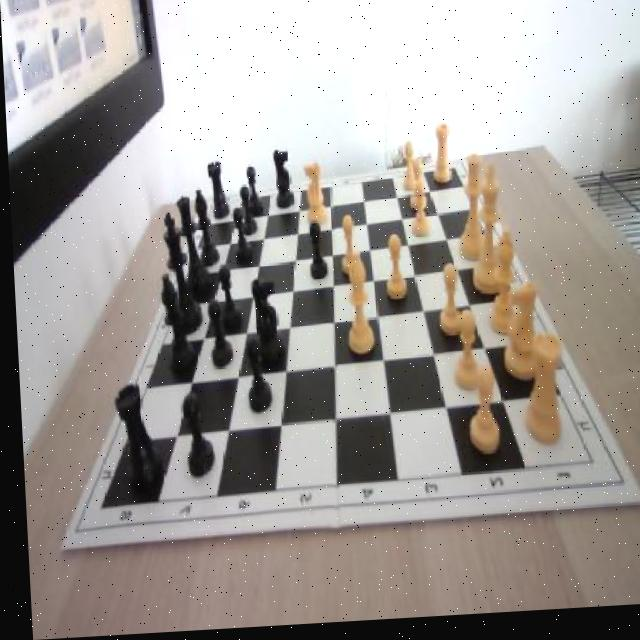bishop: (156, 275, 191, 377), (191, 189, 216, 271)
black-bishop: (159, 211, 200, 338)
black-king: (243, 275, 285, 371), (268, 147, 292, 209)
black-knight: (178, 394, 210, 479), (240, 337, 269, 415), (204, 301, 231, 371), (215, 265, 238, 333), (305, 222, 326, 284), (229, 209, 250, 267), (238, 187, 255, 241), (243, 168, 260, 219)
black-pawn: (173, 196, 210, 303)
black-queen: (110, 382, 160, 492), (205, 164, 226, 222)
black-rook: (480, 235, 521, 342), (341, 260, 371, 362)
white-bishop: (464, 169, 509, 303)
white-king: (497, 286, 540, 390), (300, 161, 329, 228)
white-knight: (461, 372, 497, 463), (446, 312, 480, 398), (432, 267, 463, 344), (380, 239, 407, 308), (336, 221, 358, 281), (408, 187, 429, 244), (397, 145, 418, 196), (405, 164, 425, 214)
white-pawn: (450, 159, 487, 267)
white-queen: (518, 338, 562, 453), (429, 129, 450, 192)
